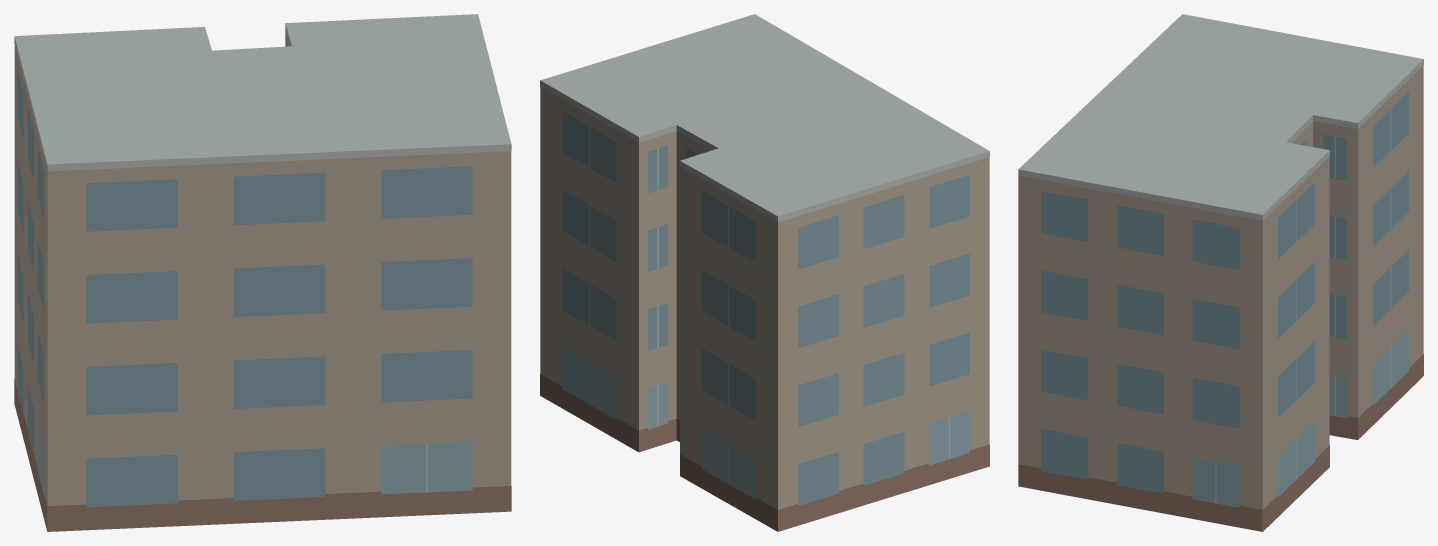
Rendered from survey-upis-32532140.glb.
3 views of the same model, side by side, from view 1: azimuth 30°, elevation 25°; view 2: azimuth 150°, elevation 25°; view 3: azimuth 270°, elevation 25° (orthographic). The views are drawn at different scales.
Visible parts, largest first — view 1: survey-upis-32532140.tmp; view 2: survey-upis-32532140.tmp; view 3: survey-upis-32532140.tmp.
Boxes of the visible parts, x1,y1,x2,y2 form: survey-upis-32532140.tmp: [14, 14, 511, 531]; survey-upis-32532140.tmp: [540, 14, 989, 531]; survey-upis-32532140.tmp: [1018, 14, 1423, 531].
Size of the model in its own units: 17.54 by 12.9 by 14.96.
